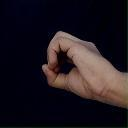hand: (42, 31, 128, 109)
